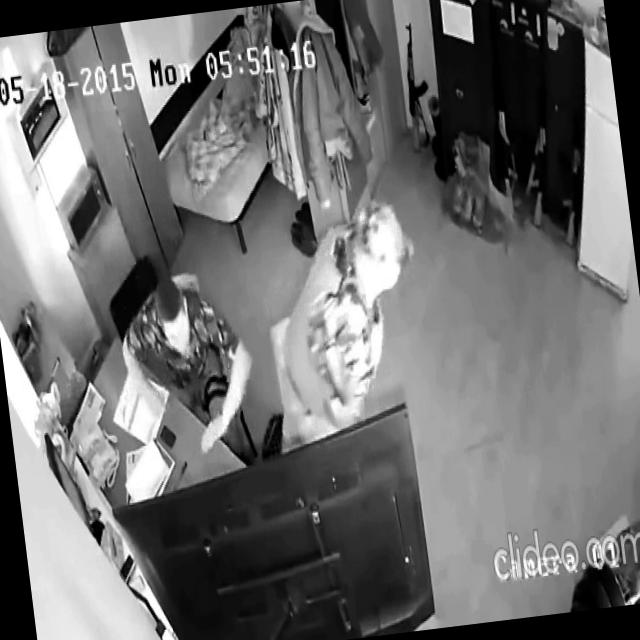gun: (511, 76, 566, 230), (546, 96, 600, 245), (482, 54, 531, 218), (396, 19, 438, 156)
person: (255, 192, 440, 457), (113, 267, 264, 476)
